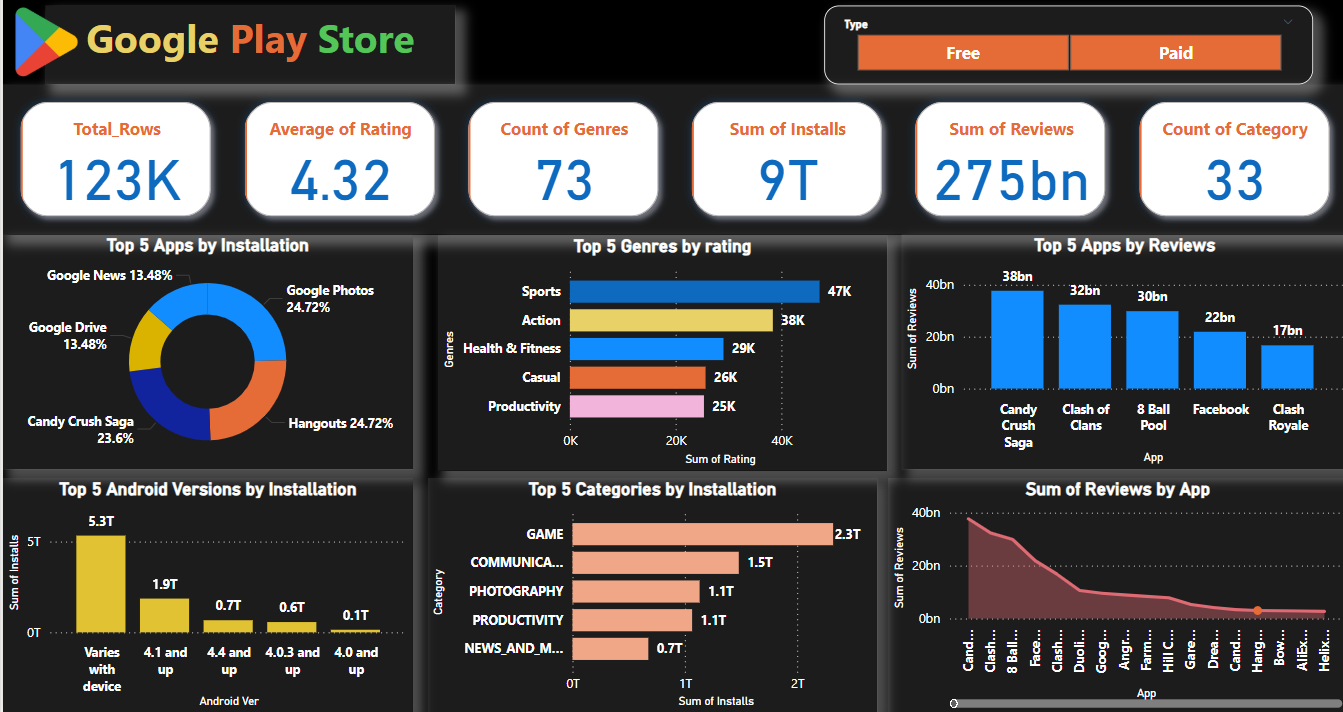

This screenshot's page, from the dashboard's own definition file:
{"tool":"powerbi","page":{"name":"Play store Analysis-1","canvas":[1280,720],"ordinal":0},"visuals":[{"type":"cardVisual","fields":{"Data":["Playstore_user-review _analysis.Total_Rows","Avg(Playstore_user-review _analysis.Rating)","Count(Playstore_user-review _analysis.Genres)","Sum(Playstore_user-review _analysis.Installs)","Sum(Playstore_user-review _analysis.Reviews)","Count(Playstore_user-review _analysis.Category)"]},"box":[0,119.9,1280.3,143.1],"z":0},{"type":"donutChart","title":"Top 5 Apps by Installation","fields":{"Category":["Playstore_user-review _analysis.App"],"Y":["Sum(Playstore_user-review _analysis.Installs)"]},"box":[0,263,390.2,224],"z":1000},{"type":"barChart","title":"Top 5 Genres by rating","fields":{"Category":["Playstore_user-review _analysis.Genres"],"Y":["Sum(Playstore_user-review _analysis.Rating)"]},"box":[414.7,264.4,427.7,224],"z":2000},{"type":"columnChart","title":"Top 5  Apps by Reviews","fields":{"Category":["Playstore_user-review _analysis.App"],"Y":["Sum(Playstore_user-review _analysis.Reviews)"]},"box":[855.5,263,424.8,224],"z":3000},{"type":"columnChart","title":"Top 5  Android Versions by Installation","fields":{"Category":["Playstore_user-review _analysis.Android Ver"],"Y":["Sum(Playstore_user-review _analysis.Installs)"]},"box":[0,495.6,390.2,224],"z":4000},{"type":"barChart","title":"Top 5 Categories by Installation","fields":{"Category":["Playstore_user-review _analysis.Category"],"Y":["Sum(Playstore_user-review _analysis.Installs)"]},"box":[404.6,495.6,427.7,224],"z":5000},{"type":"areaChart","fields":{"Y":["Sum(Playstore_user-review _analysis.Reviews)"],"Category":["Playstore_user-review _analysis.App"]},"box":[842.5,495.6,437.8,224],"z":6000},{"type":"slicer","fields":{"Values":["Playstore_user-review _analysis.Type"]},"box":[781.8,44.8,465.3,75.1],"z":7000},{"type":"textbox","box":[40.5,44.8,390.2,75.1],"z":8000},{"type":"image","box":[4.3,39,72.3,80.9],"z":9000}]}

Visuals, with their boxes on the page's 1280x720 design canvas (x1, y1, x2, y2). These are canvas units, not pixel positions in the 1343x712 screenshot, which may show the page scaled, cropped or inside an application window:
cardVisual - Playstore_user-review _analysis.Total_Rows x Avg(Playstore_user-review _analysis.Rating): pyautogui.locateOnScreen(0, 120, 1280, 263)
"Top 5 Apps by Installation" donutChart: pyautogui.locateOnScreen(0, 263, 390, 487)
"Top 5 Genres by rating" barChart: pyautogui.locateOnScreen(415, 264, 842, 488)
"Top 5  Apps by Reviews" columnChart: pyautogui.locateOnScreen(856, 263, 1280, 487)
"Top 5  Android Versions by Installation" columnChart: pyautogui.locateOnScreen(0, 496, 390, 720)
"Top 5 Categories by Installation" barChart: pyautogui.locateOnScreen(405, 496, 832, 720)
areaChart - Sum(Playstore_user-review _analysis.Reviews) x Playstore_user-review _analysis.App: pyautogui.locateOnScreen(842, 496, 1280, 720)
slicer - Playstore_user-review _analysis.Type: pyautogui.locateOnScreen(782, 45, 1247, 120)
textbox: pyautogui.locateOnScreen(40, 45, 431, 120)
image: pyautogui.locateOnScreen(4, 39, 77, 120)
